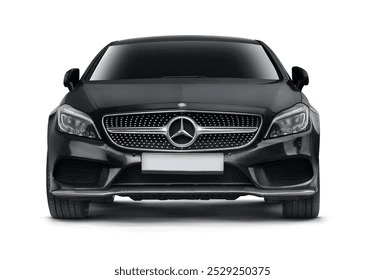car: (38, 31, 323, 218)
